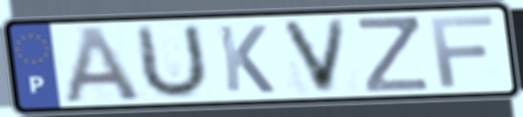A: (61, 24, 146, 106)
F: (427, 13, 497, 89)
K: (214, 23, 278, 95)
U: (135, 21, 212, 103)
V: (277, 16, 352, 96)
Z: (354, 15, 433, 95)
